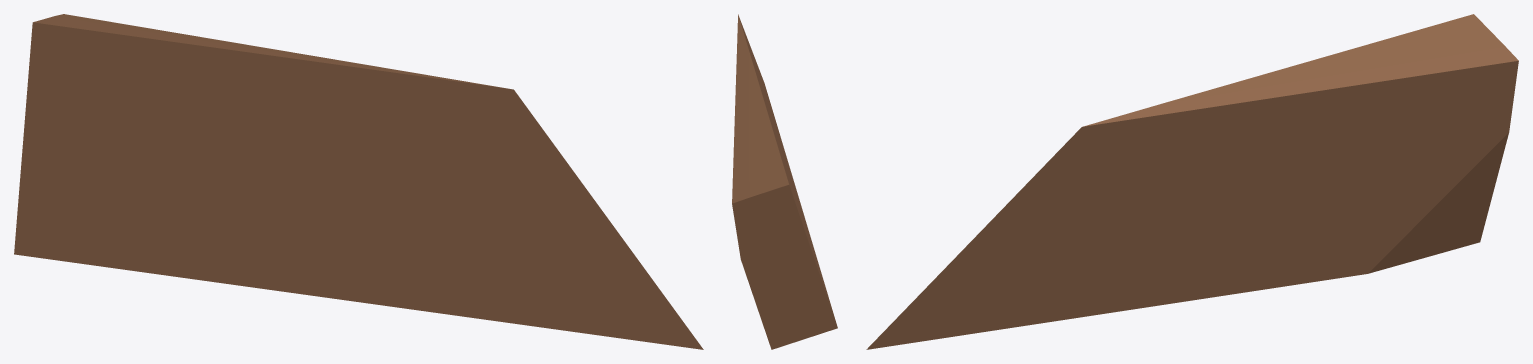
The model's file is WoodCellCube_003_cell_001.fbx.
3 views of the same model, side by side, from view 1: azimuth 30°, elevation 25°; view 2: azimuth 150°, elevation 25°; view 3: azimuth 270°, elevation 25° (orthographic). The views are drawn at different scales.
Parts seen in each view (by area): view 1: WoodCellCube_003_cell_001; view 2: WoodCellCube_003_cell_001; view 3: WoodCellCube_003_cell_001.
Boxes of the visible parts, left/top/right/bottom form: WoodCellCube_003_cell_001: left=14, top=14, right=703, bottom=349; WoodCellCube_003_cell_001: left=732, top=14, right=837, bottom=349; WoodCellCube_003_cell_001: left=866, top=14, right=1518, bottom=349.
Bounding box in the file's own units: 0.6585 × 0.2603 × 0.4389.
Materials: 1 (1 with a texture image).
